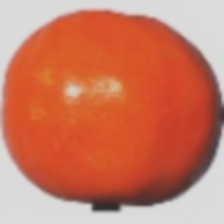tangerine: (30, 51, 187, 215)
